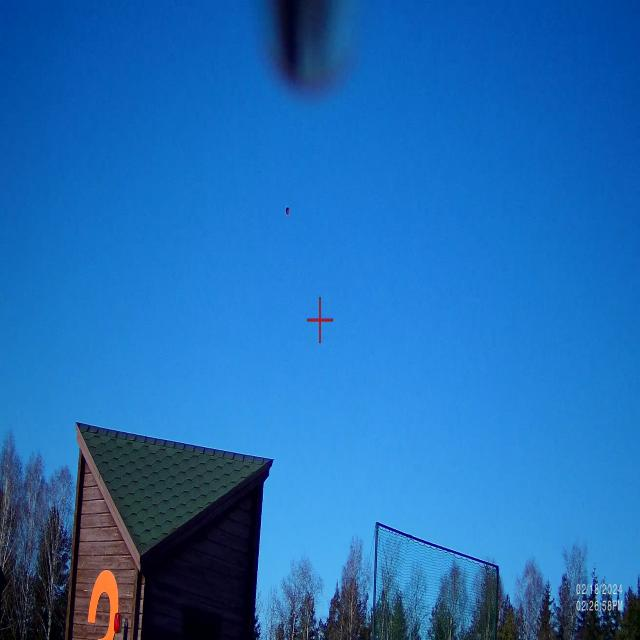entire: (281, 200, 295, 216)
